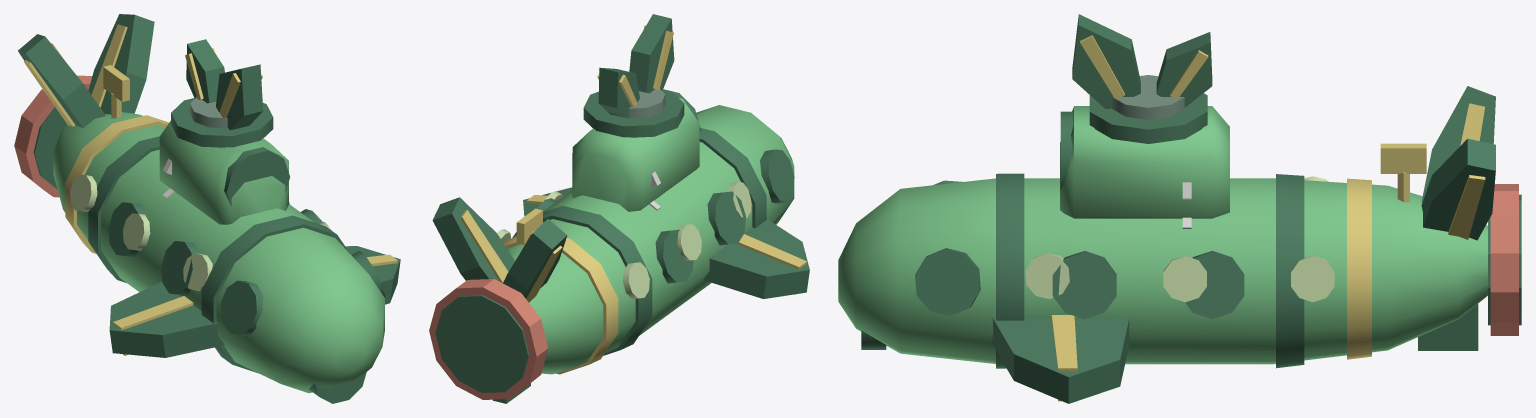
File: submarines_KelpCruiser.glb
3 views of the same model, side by side, from view 1: azimuth 30°, elevation 25°; view 2: azimuth 150°, elevation 25°; view 3: azimuth 270°, elevation 25° (orthographic). The views are drawn at different scales.
Visible parts, largest first — view 1: Hull, Hull_Glow; view 2: Hull, Hull_Glow; view 3: Hull, Hull_Glow.
Part boxes in pixels (x1,y1,x2,y2): Hull: (14, 14, 400, 403); Hull_Glow: (70, 174, 330, 290); Hull: (429, 14, 809, 403); Hull_Glow: (497, 182, 751, 299); Hull: (838, 14, 1521, 403); Hull_Glow: (1025, 176, 1334, 302).
Size of the model in its own units: 22.92 by 21.03 by 38.55.
